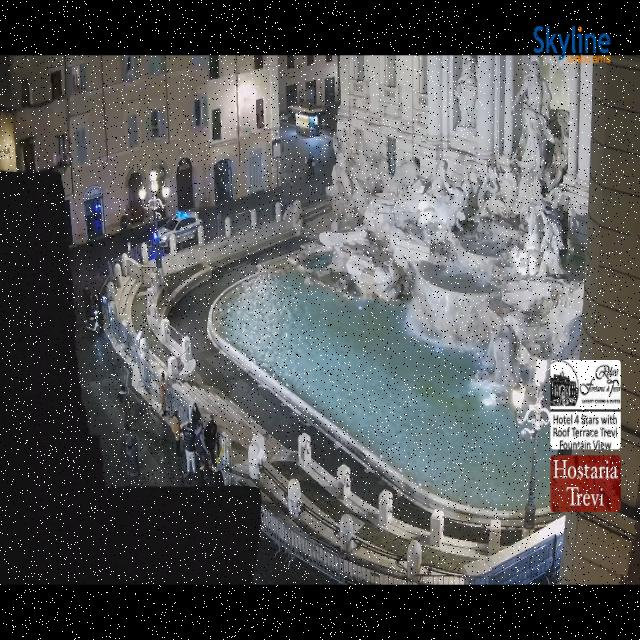person: (180, 423, 195, 476), (195, 423, 209, 465), (204, 416, 217, 458), (119, 385, 131, 430), (172, 411, 180, 457), (188, 402, 202, 428), (159, 372, 167, 416), (211, 464, 225, 487), (196, 465, 207, 488), (84, 285, 91, 319), (93, 292, 99, 309), (311, 156, 315, 178), (304, 155, 308, 176)
